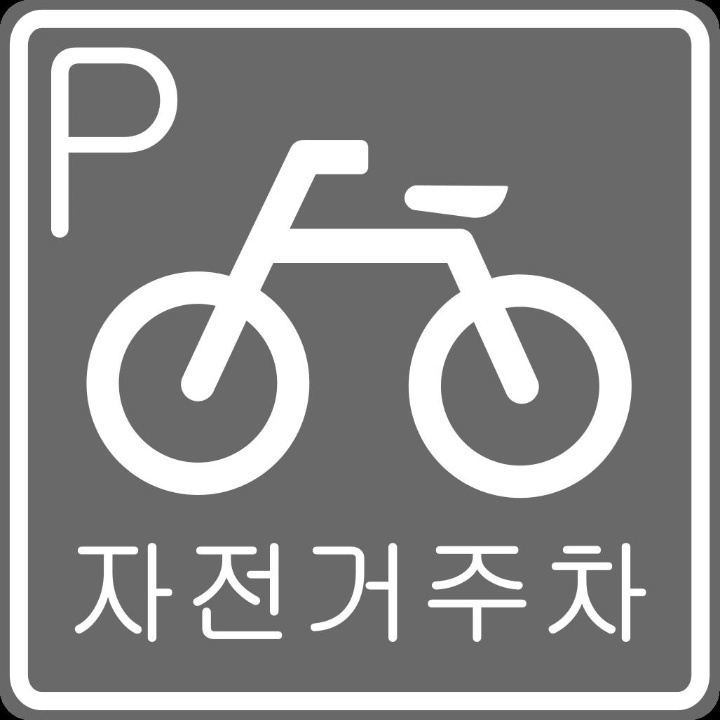bicycle: (72, 109, 642, 507)
